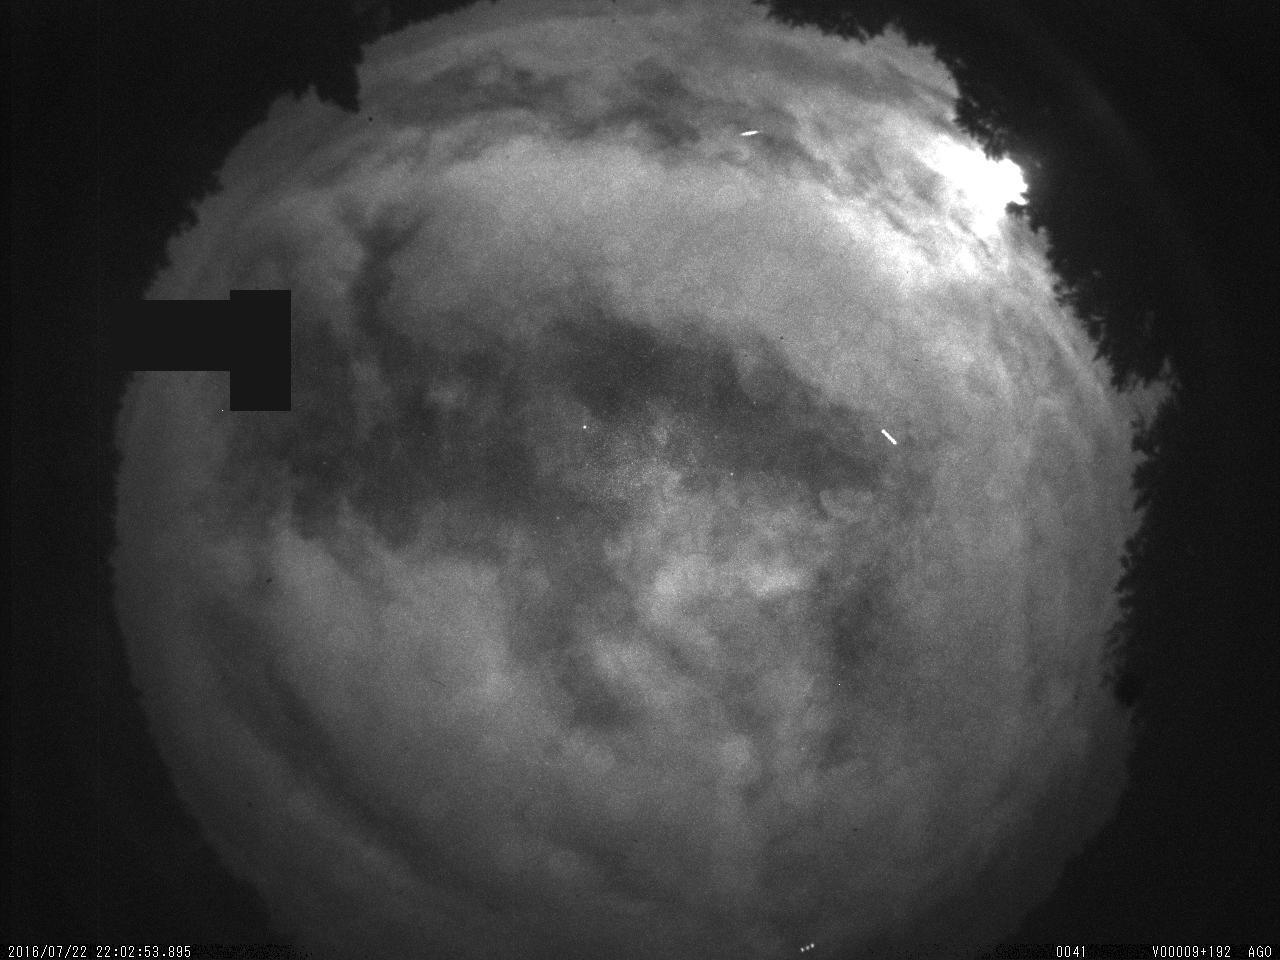meteor: (737, 122, 765, 142)
satelite: (871, 419, 904, 457), (793, 938, 821, 956)
